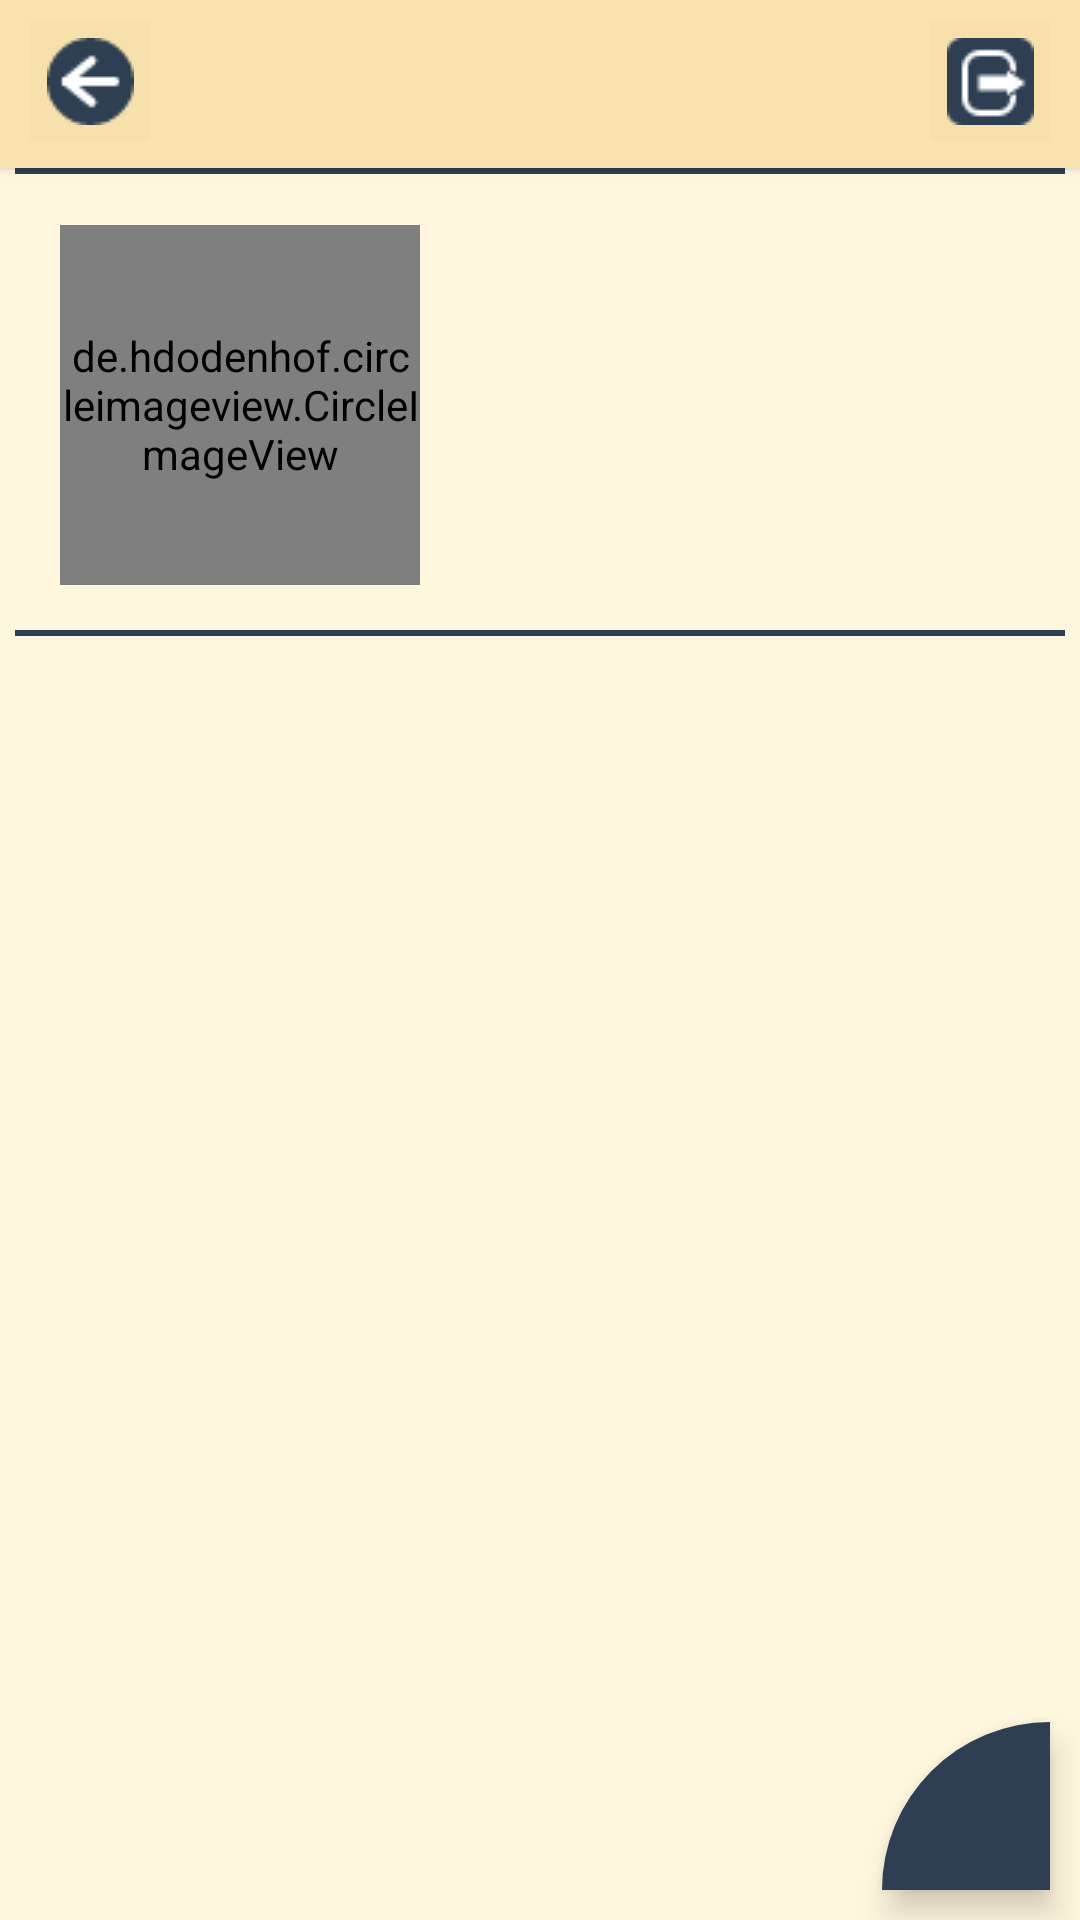

Locate icon controls on the screen. Image size 1080px×1920px, boxes as [x1, y1, x2, y2].
back: [47, 38, 134, 125]
